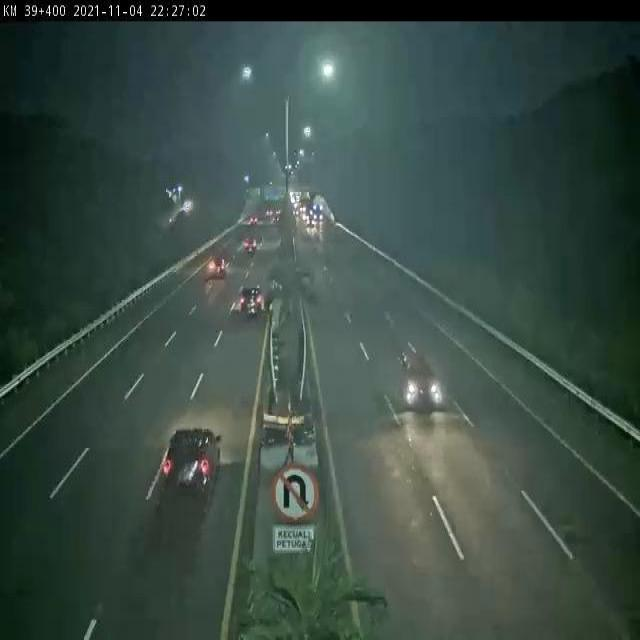car: (164, 427, 223, 497), (400, 352, 440, 407), (240, 284, 263, 317), (205, 252, 227, 280)
